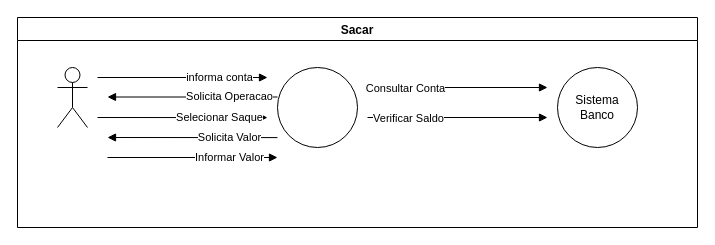
Some shapes in this 715 by 245 pixel diagram are drawn without their labels. Here are the shapes that lost their labels. From the top down, the box of each, then its label:
(56, 66, 88, 128): Cliente
(276, 66, 358, 148): Interface Banco
